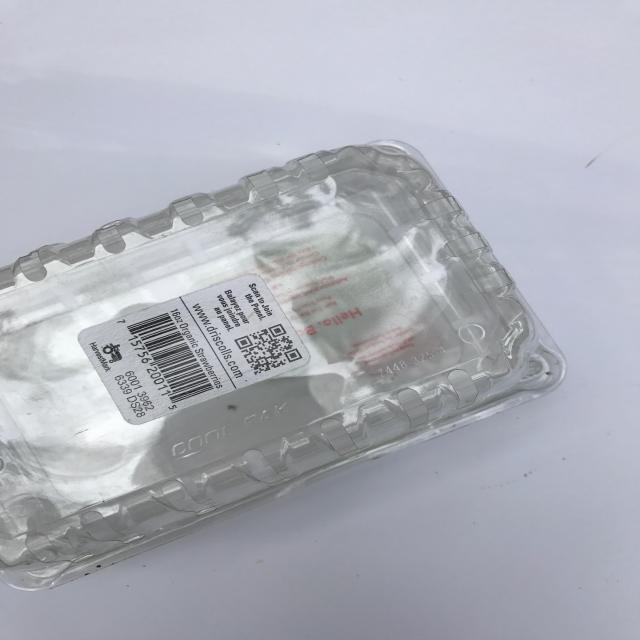plastic: (9, 139, 569, 593)
